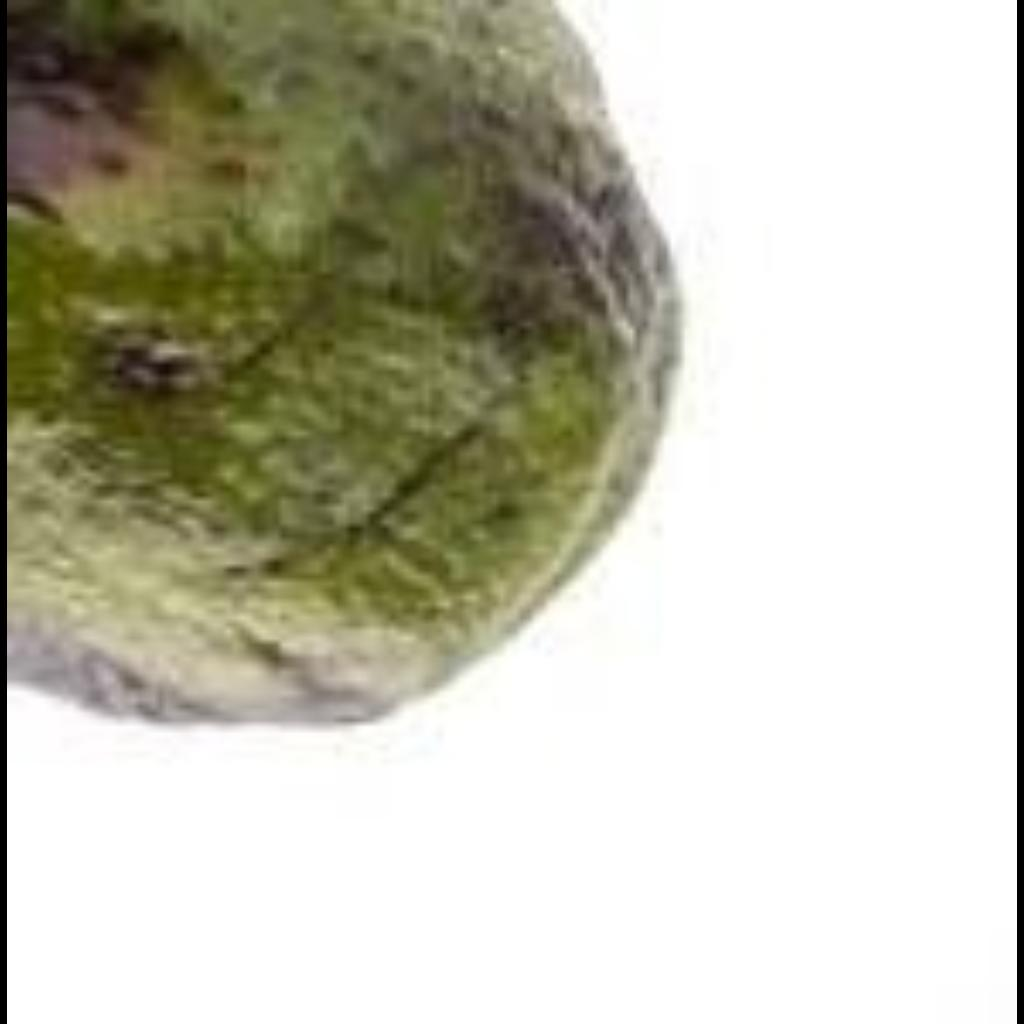antracnosis_fruto: (7, 6, 621, 655)
